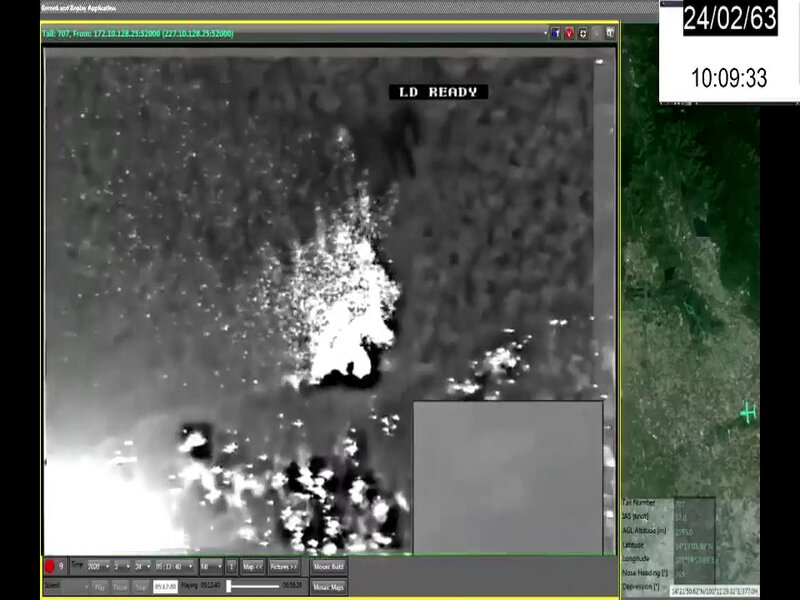Fire: (272, 194, 405, 391)
